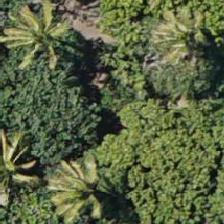coconut_tree: (28, 153, 118, 223), (0, 0, 76, 73), (0, 126, 45, 216)
